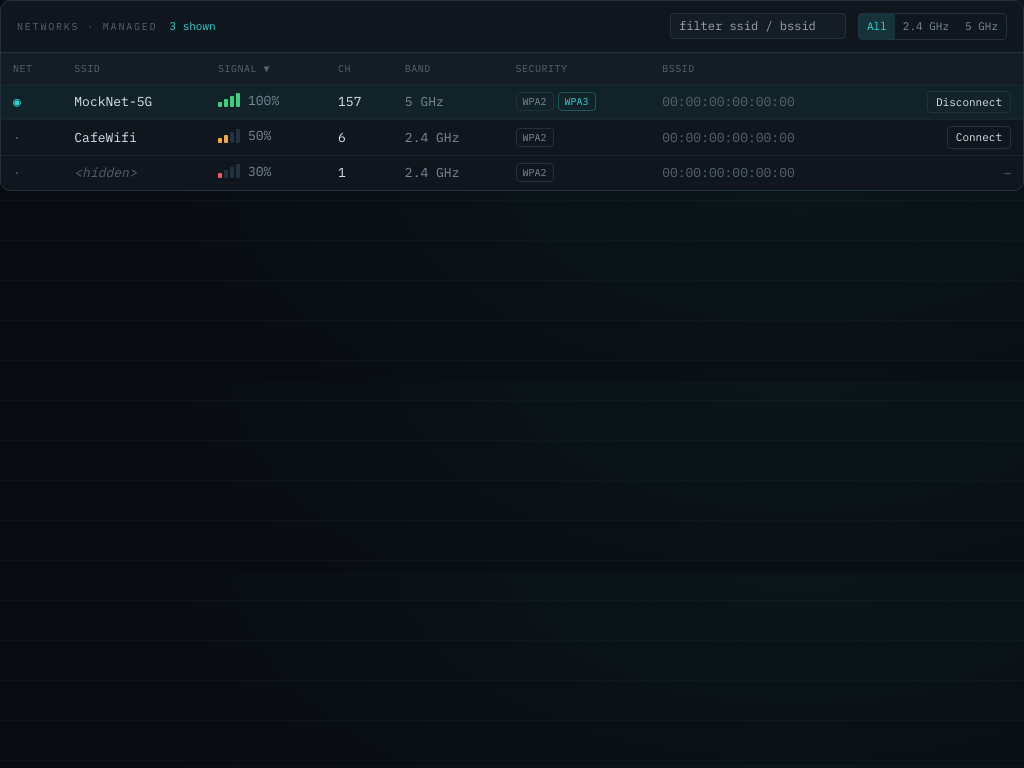
Test case: NetworkTable › filters by SSID text
Type "cafe" into the field with placeholder "filter ssid / bssid". click: (758,26)
box: [670,13,846,39]
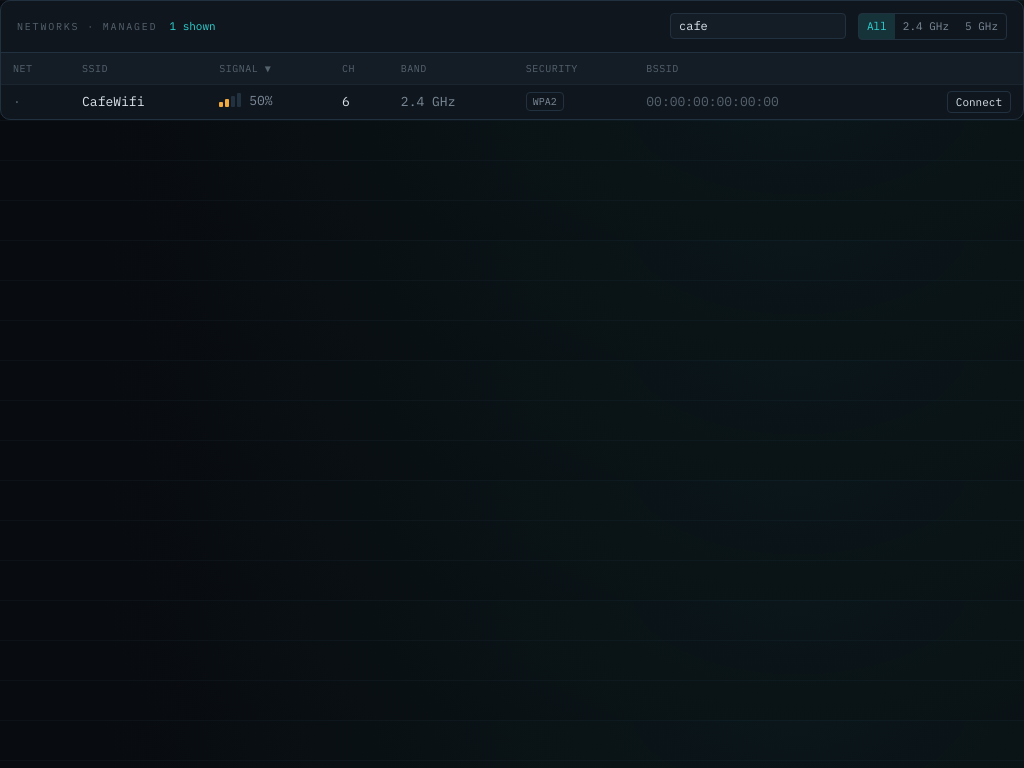
Check: the text "CafeWifi" is shown, box [70,84,207,119]
Check: the text "MockNet-5G" is gone
